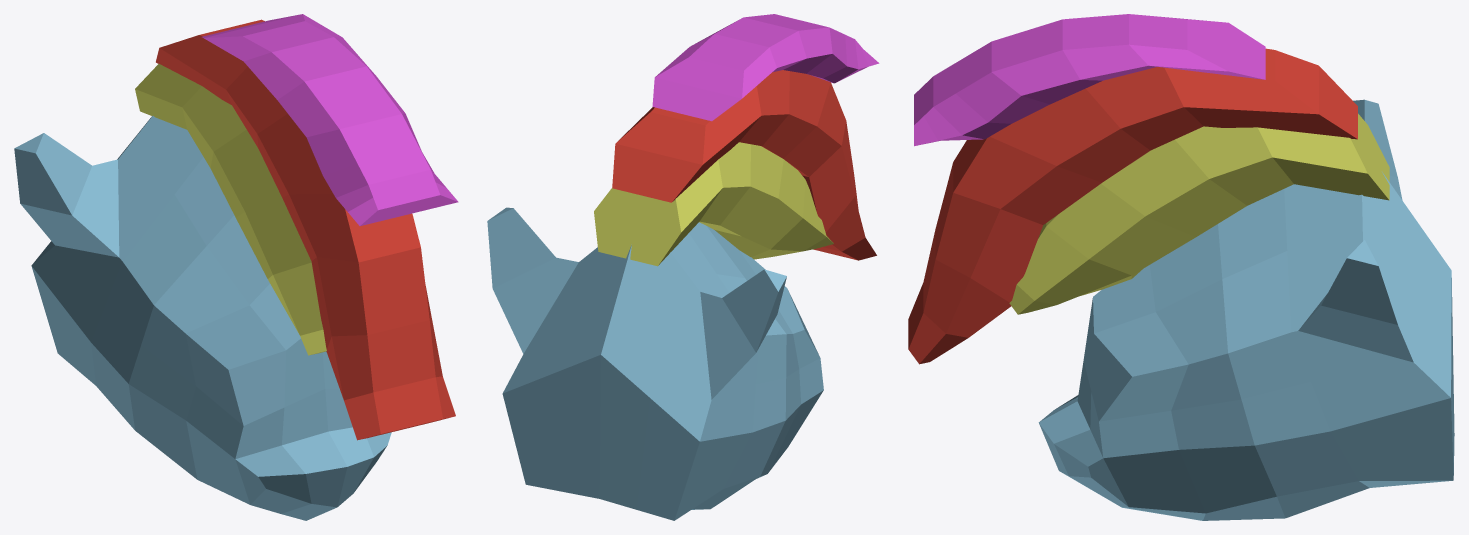
The model's file is brony-antique-head.fbx.
3 views of the same model, side by side, from view 1: azimuth 30°, elevation 25°; view 2: azimuth 150°, elevation 25°; view 3: azimuth 270°, elevation 25° (orthographic). The views are drawn at different scales.
Visible parts, largest first — view 1: brony-antique-head; view 2: brony-antique-head; view 3: brony-antique-head.
Boxes of the visible parts, left/top/right/bottom form: brony-antique-head: left=14, top=14, right=458, bottom=520; brony-antique-head: left=487, top=14, right=879, bottom=520; brony-antique-head: left=908, top=14, right=1454, bottom=520.
Bounding box in the file's own units: 113 × 157 × 160.
